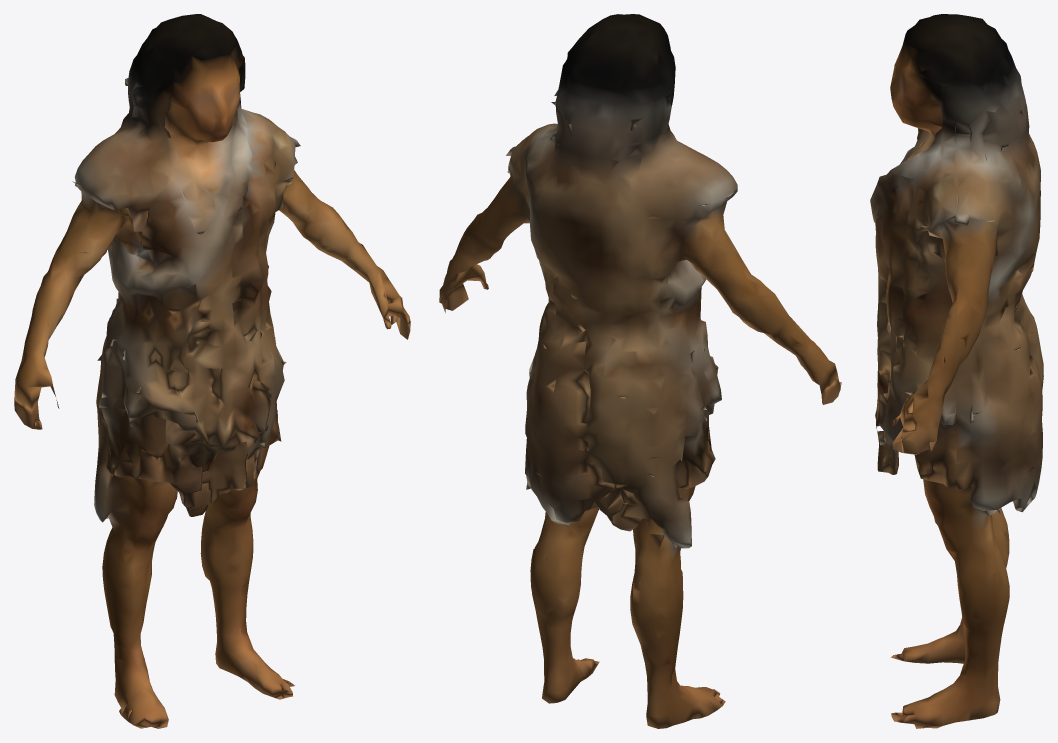
The model's file is hoehlenmann.glb.
3 views of the same model, side by side, from view 1: azimuth 30°, elevation 25°; view 2: azimuth 150°, elevation 25°; view 3: azimuth 270°, elevation 25° (orthographic).
Size of the model in its own units: 1.12 by 1.89 by 0.4421.
